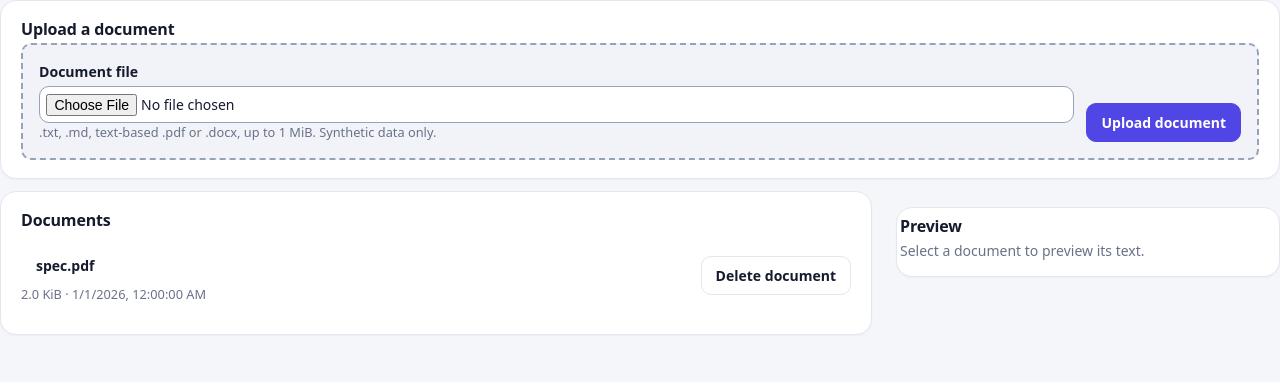
Test: DocumentsSection › notes that the spec.pdf preview is extracted text
Step 1. Click the button "spec.pdf" → coordinates (65, 266), box top-left (21, 246), bottom-right (109, 285)
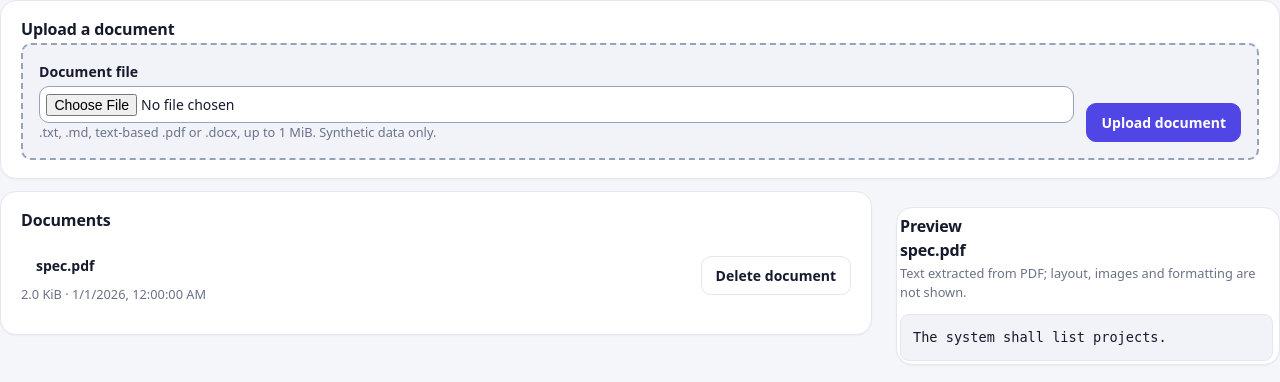
Result: the text "The system shall list projects." is shown at top-left (900, 314), bottom-right (1273, 361)
